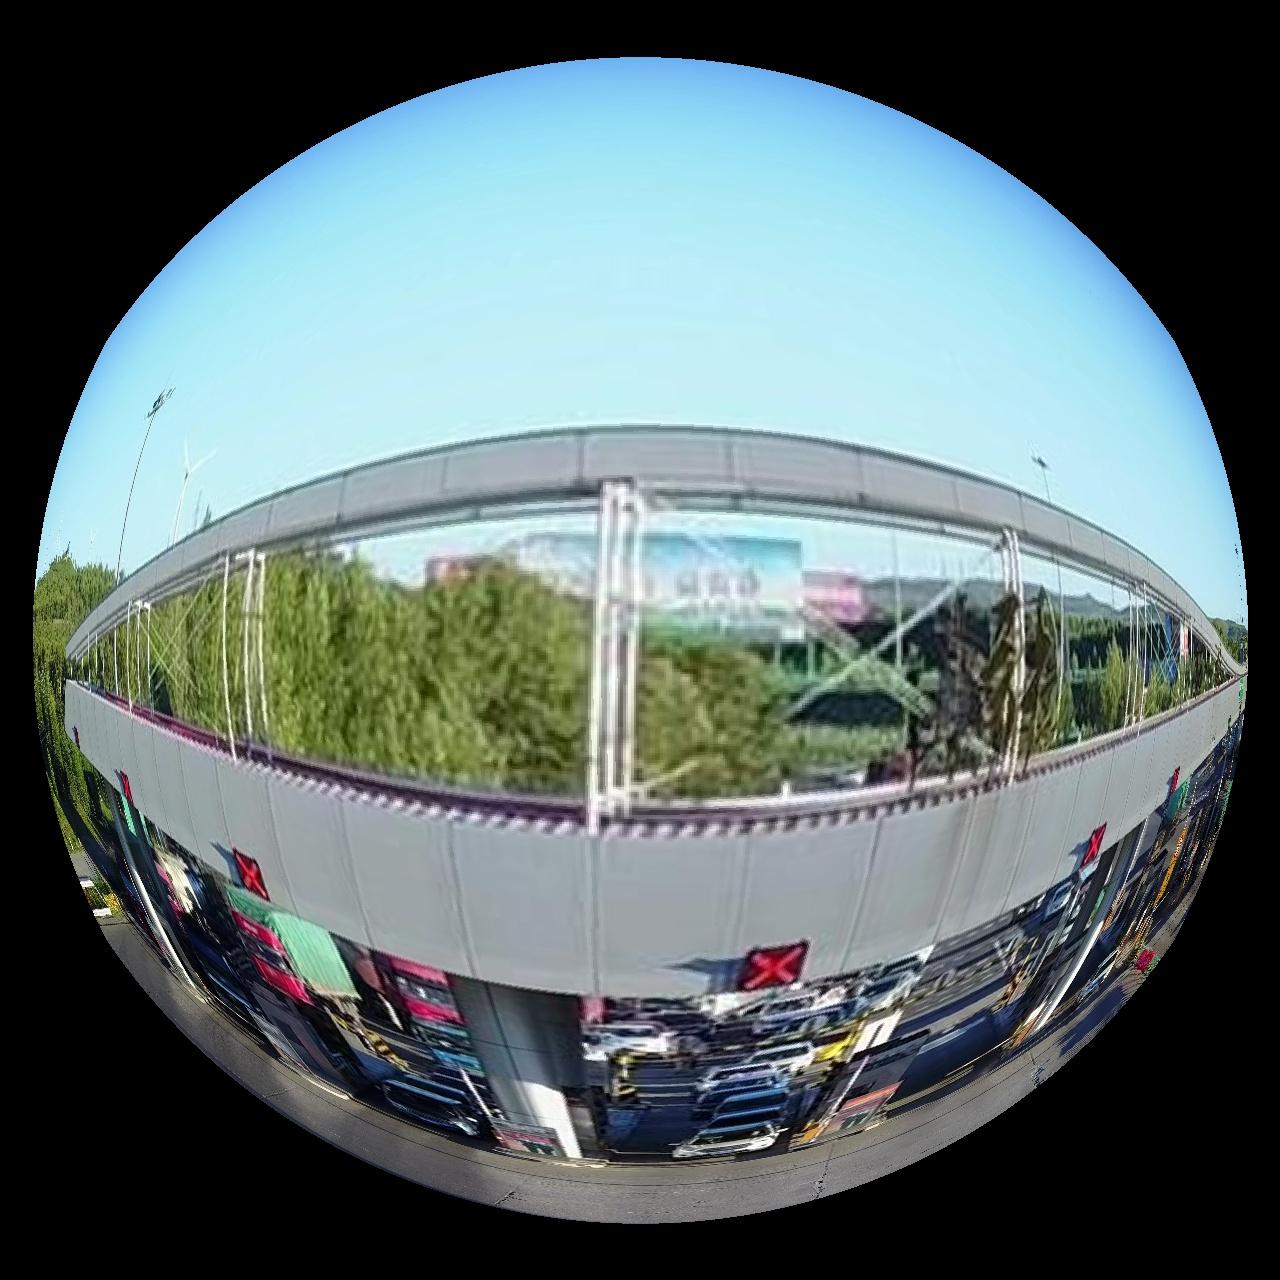building: (35, 428, 1246, 1170)
cars: (225, 887, 359, 1006), (378, 1076, 483, 1138), (673, 1123, 781, 1161), (705, 1087, 790, 1132), (746, 1043, 817, 1078)
trees: (73, 537, 593, 796)
